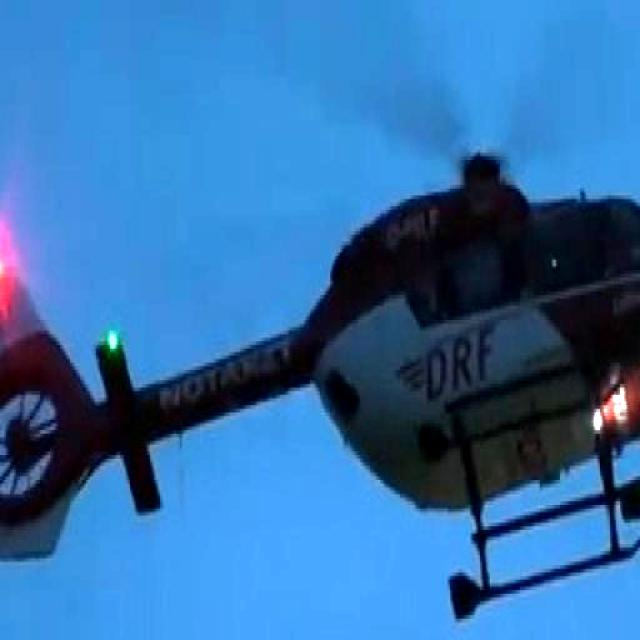drone: (0, 140, 640, 625)
